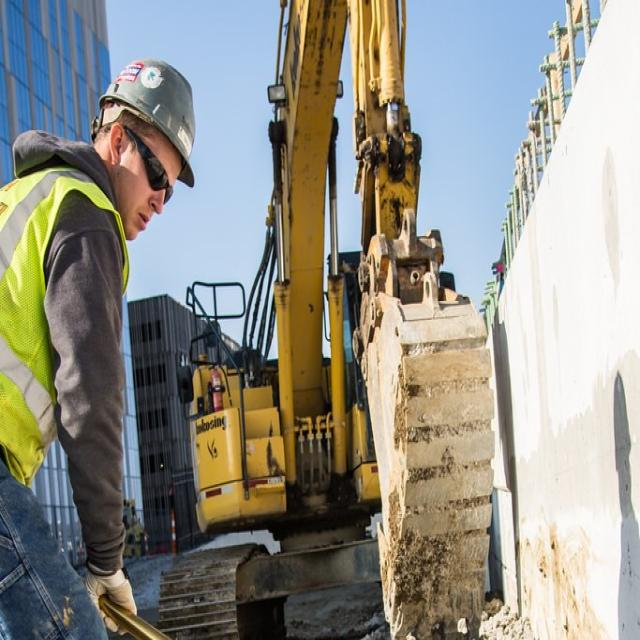goggles: (113, 122, 179, 205)
helmet: (100, 54, 200, 188)
vest: (0, 157, 132, 496)
